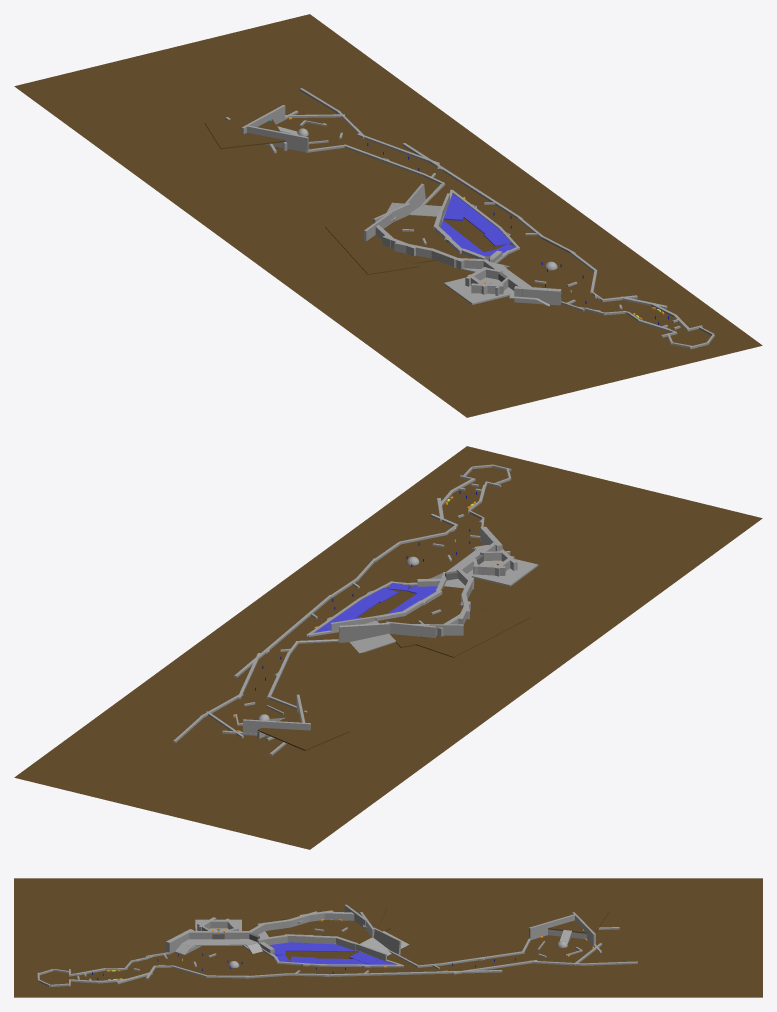
3 renders of one model, top to bottom at view 1: azimuth 30°, elevation 25°; view 2: azimuth 150°, elevation 25°; view 3: azimuth 270°, elevation 25°, orthographic. The views are drawn at different scales.
Visible parts, largest first — view 1: Plane, Cube.069, Cube.060, Cube.033, Cube.042, Cube.044, Cube.049; view 2: Plane, Cube.069, Cube.033, Cube.060, Cube.042, Cube.067; view 3: Plane, Cube.069, Cube.060, Cube.033, Cube.054, Cube.074, Cube.049, Cube.067, Cube.080, Cube.063, Cube.044, Cube.055 (+8 smaller).
Boxes of the visible parts, x1,y1,x2,y2 form: Plane: [14, 14, 762, 417]; Cube.069: [325, 219, 419, 274]; Cube.060: [384, 217, 456, 263]; Cube.033: [204, 116, 285, 149]; Cube.042: [444, 277, 514, 304]; Cube.044: [514, 286, 561, 305]; Cube.049: [246, 125, 308, 150]; Plane: [14, 446, 762, 849]; Cube.069: [411, 603, 530, 657]; Cube.033: [257, 711, 350, 750]; Cube.060: [389, 596, 487, 638]; Cube.042: [467, 559, 538, 586]; Cube.067: [338, 623, 390, 642]; Plane: [14, 878, 762, 997]; Cube.069: [281, 900, 386, 926]; Cube.060: [285, 917, 364, 941]; Cube.033: [548, 905, 609, 933]; Cube.054: [326, 970, 502, 976]; Cube.074: [278, 943, 356, 951]; Cube.049: [529, 914, 574, 939]; Cube.067: [374, 927, 401, 954]; Cube.080: [311, 958, 383, 965]; Cube.063: [360, 931, 408, 955]; Cube.044: [166, 929, 193, 953]; Cube.055: [318, 964, 403, 967].
Bounding box in the file's own units: 31551 × 3876 × 83651.
